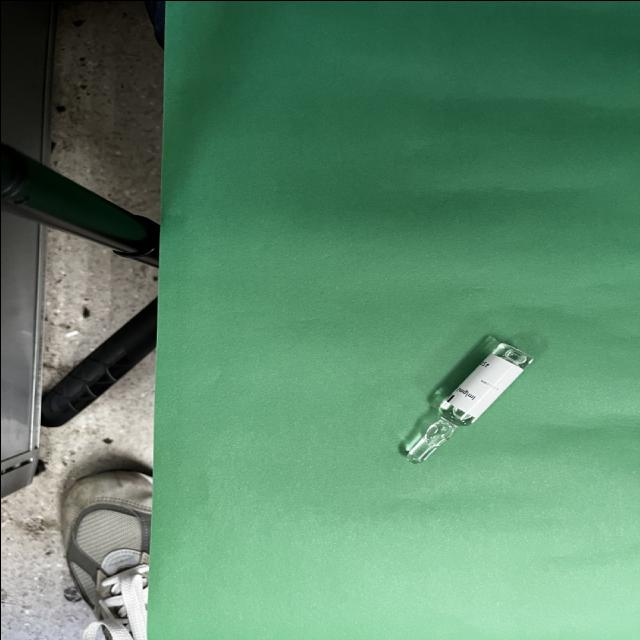Ampoules: (406, 341, 532, 463)
